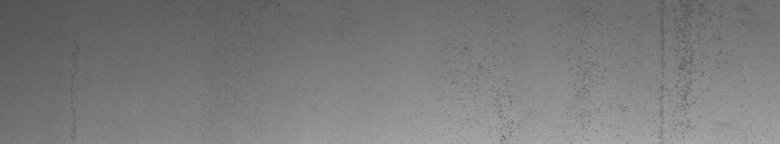ib: (460, 47, 520, 126)
